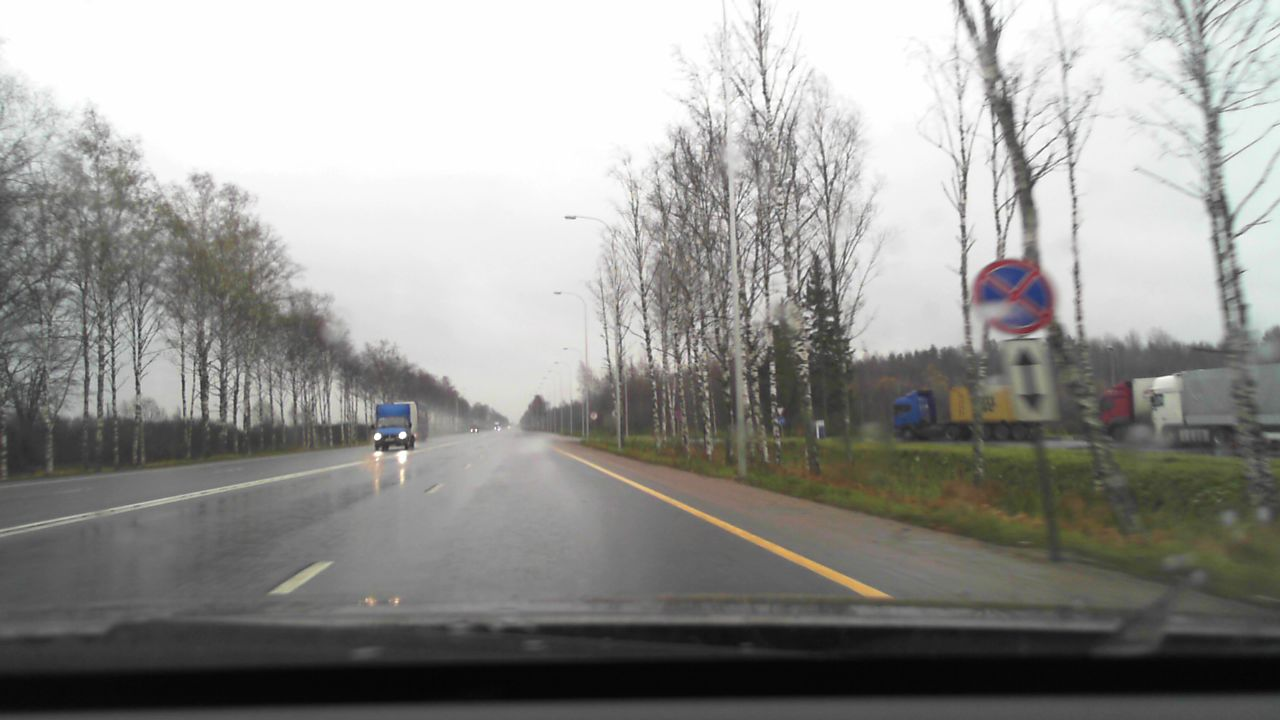No Parking: (972, 258, 1052, 336)
